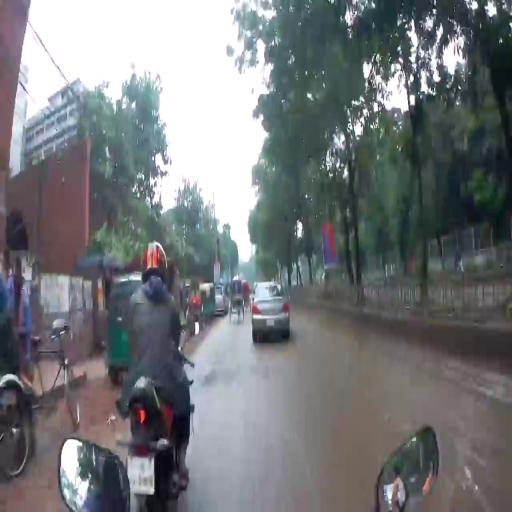car: (251, 282, 295, 349)
motorbike: (113, 319, 198, 512)
rickshaw: (226, 274, 248, 330)
